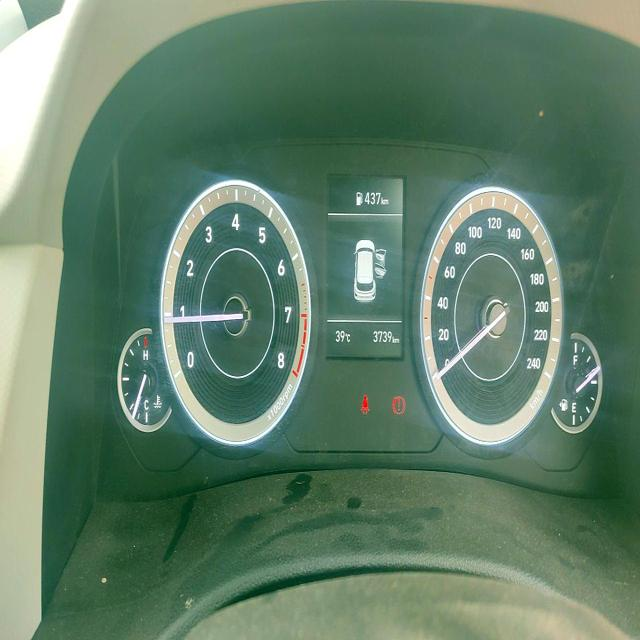odometer: (371, 327, 393, 347)
